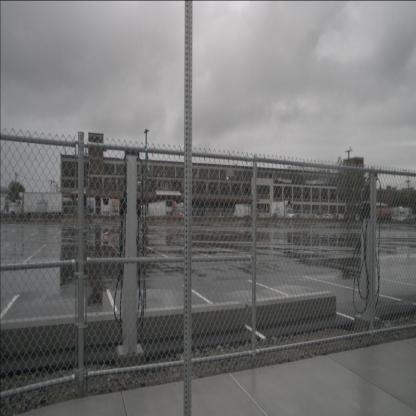movable_object-trafficcone: (104, 228, 112, 237), (289, 219, 293, 228)
vehicle-car: (344, 211, 356, 221), (309, 214, 321, 223), (333, 213, 343, 222), (298, 213, 305, 222), (324, 214, 332, 221)
vehicle-truck: (10, 191, 64, 217), (271, 201, 295, 221), (233, 203, 252, 219), (387, 206, 406, 221)
